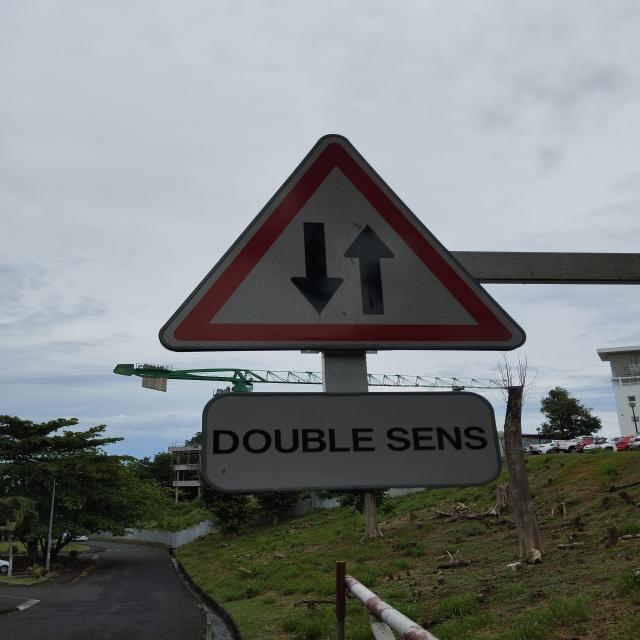Double-Sens: (149, 129, 530, 349)
